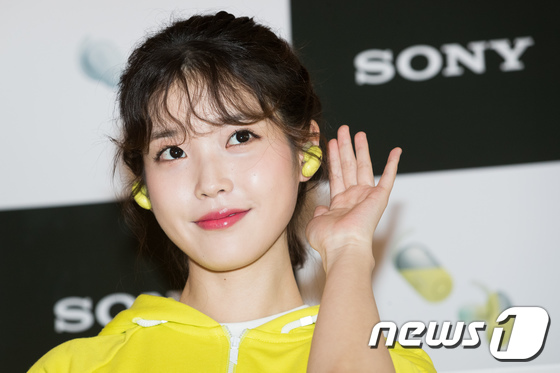earphone: (295, 119, 323, 183)
